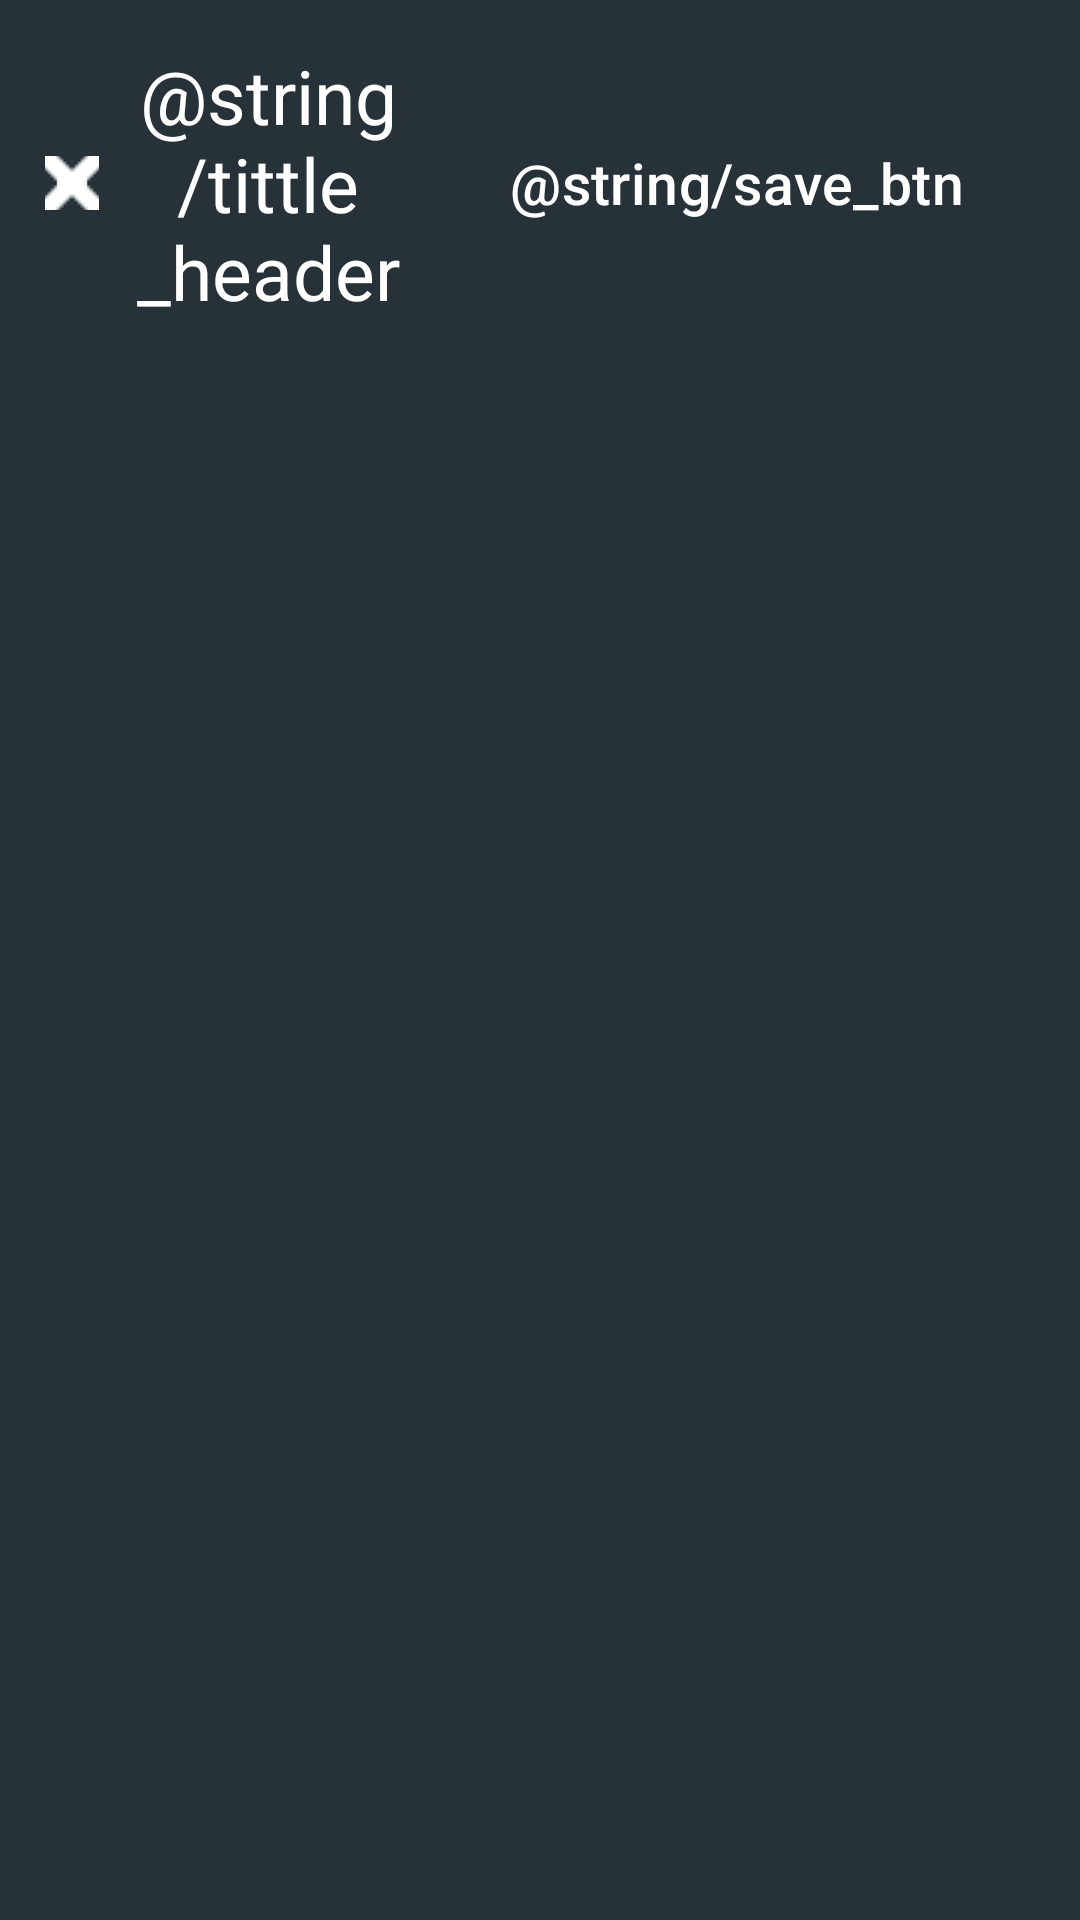

Icons on this 1080px x 1920px Android screen, each with the point to tap as point (x, y):
close: point (72, 183)
